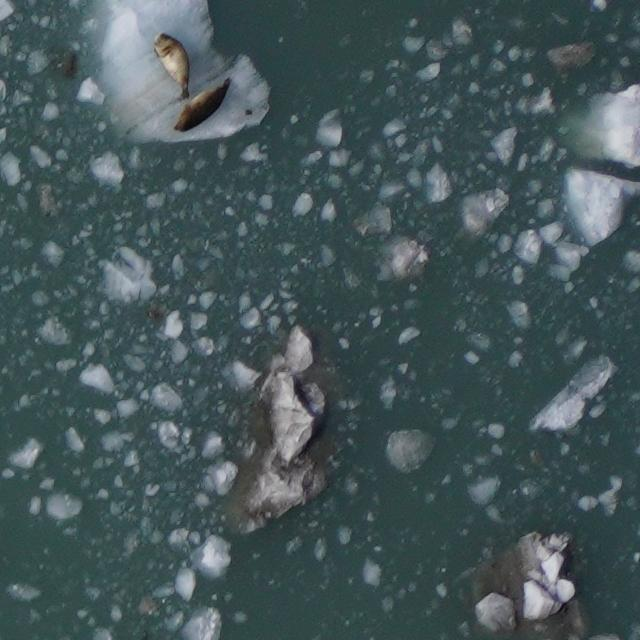seal: (168, 74, 234, 137), (149, 30, 194, 102)
